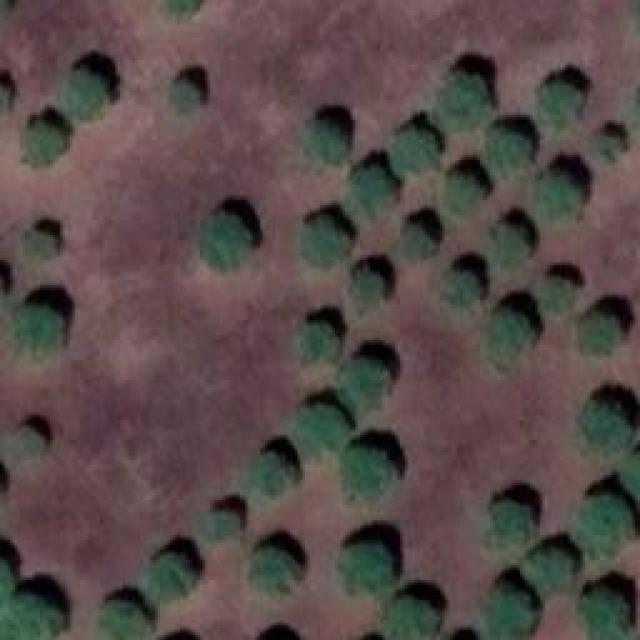Tree: (336, 443, 395, 504), (5, 300, 63, 362), (577, 493, 632, 555), (200, 210, 252, 272), (331, 545, 395, 593), (430, 73, 490, 124), (578, 400, 635, 453), (342, 173, 395, 224), (62, 64, 112, 118), (295, 408, 350, 457), (486, 305, 533, 360), (480, 130, 532, 178), (342, 356, 390, 408), (579, 585, 627, 637), (300, 218, 347, 269), (531, 173, 578, 223), (148, 550, 193, 602), (15, 592, 62, 640), (18, 123, 65, 170), (293, 115, 342, 160), (392, 127, 438, 174), (540, 82, 587, 128), (490, 500, 537, 546), (248, 550, 297, 594), (248, 447, 293, 494), (436, 262, 480, 309), (528, 550, 572, 597), (578, 310, 625, 353), (488, 225, 530, 273), (488, 592, 532, 637), (298, 317, 340, 364), (102, 598, 150, 639), (438, 175, 483, 218), (387, 600, 435, 640), (345, 268, 385, 312), (21, 228, 60, 270), (396, 223, 435, 265), (535, 275, 572, 316), (5, 428, 42, 463), (172, 78, 205, 117), (0, 560, 15, 640), (205, 507, 238, 540), (592, 130, 622, 164), (625, 450, 640, 497)
